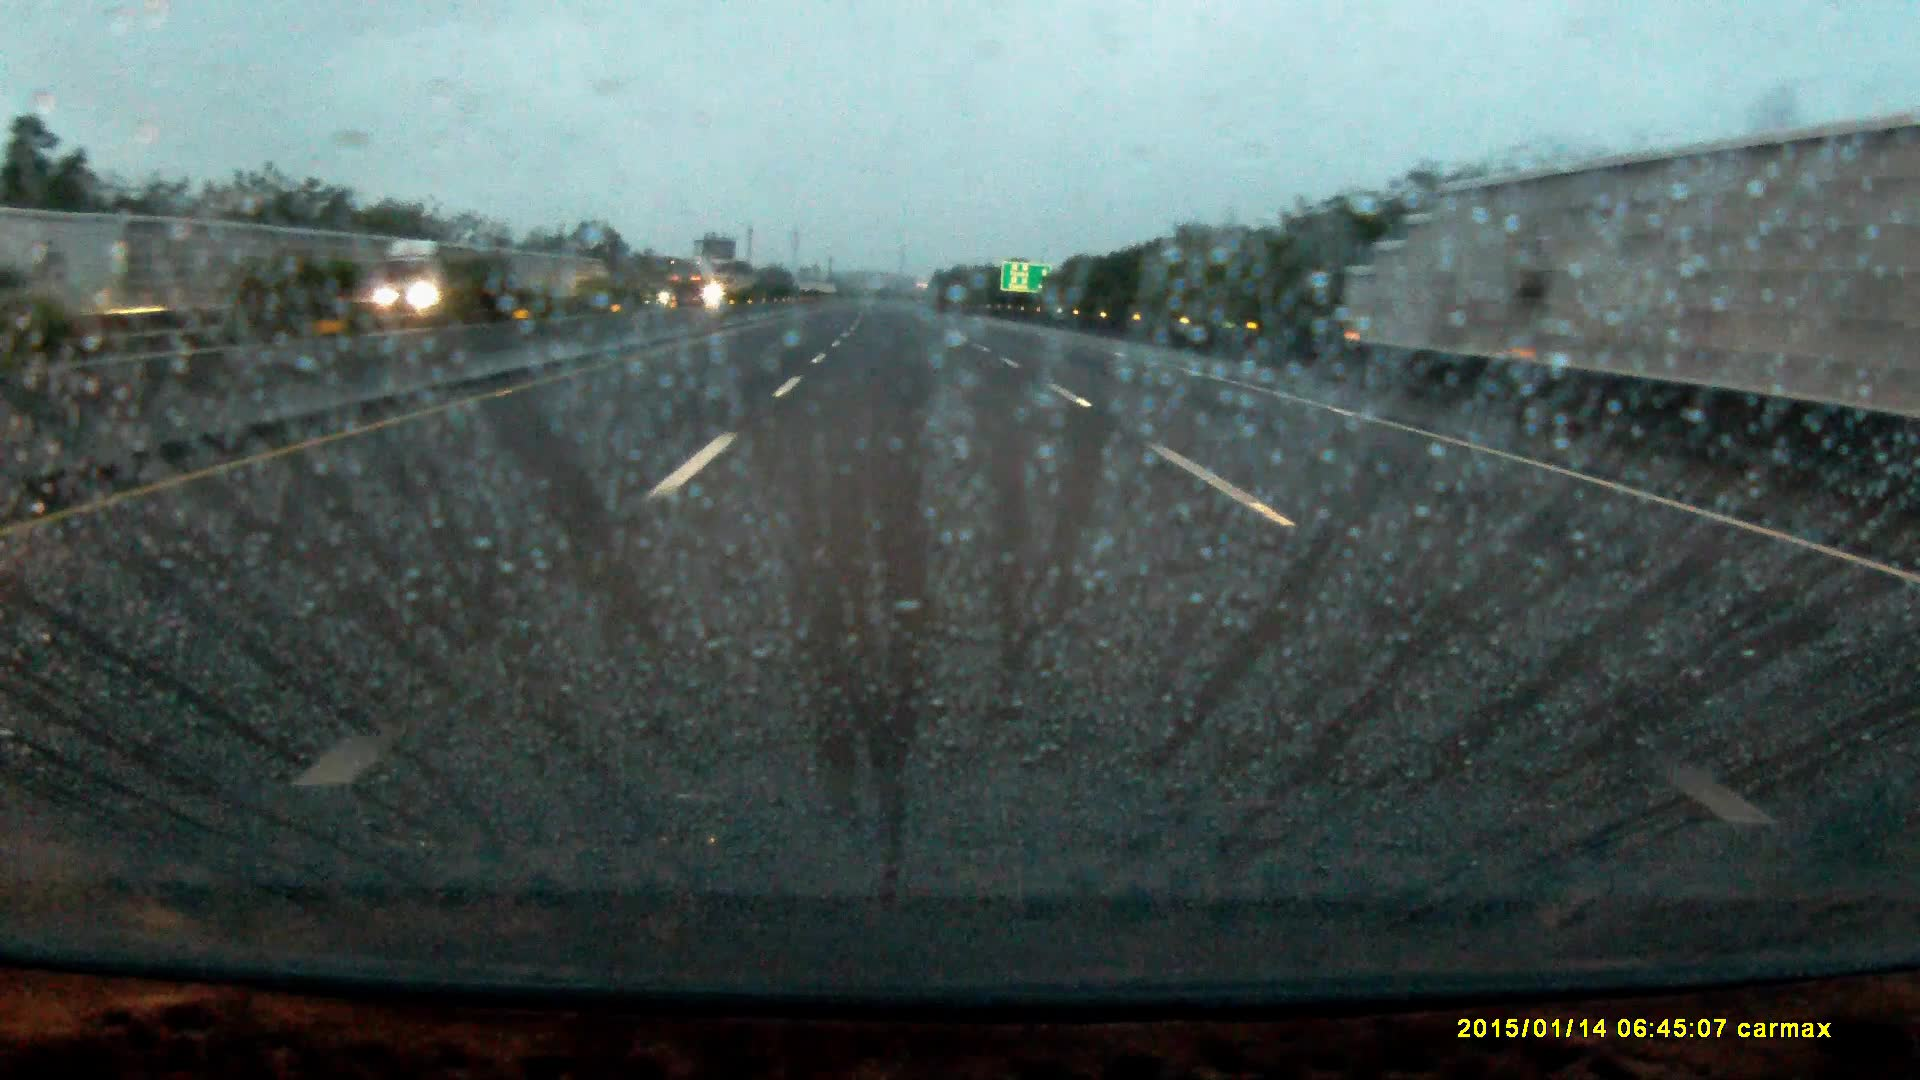vehicle: (373, 239, 487, 336), (669, 268, 719, 313)
